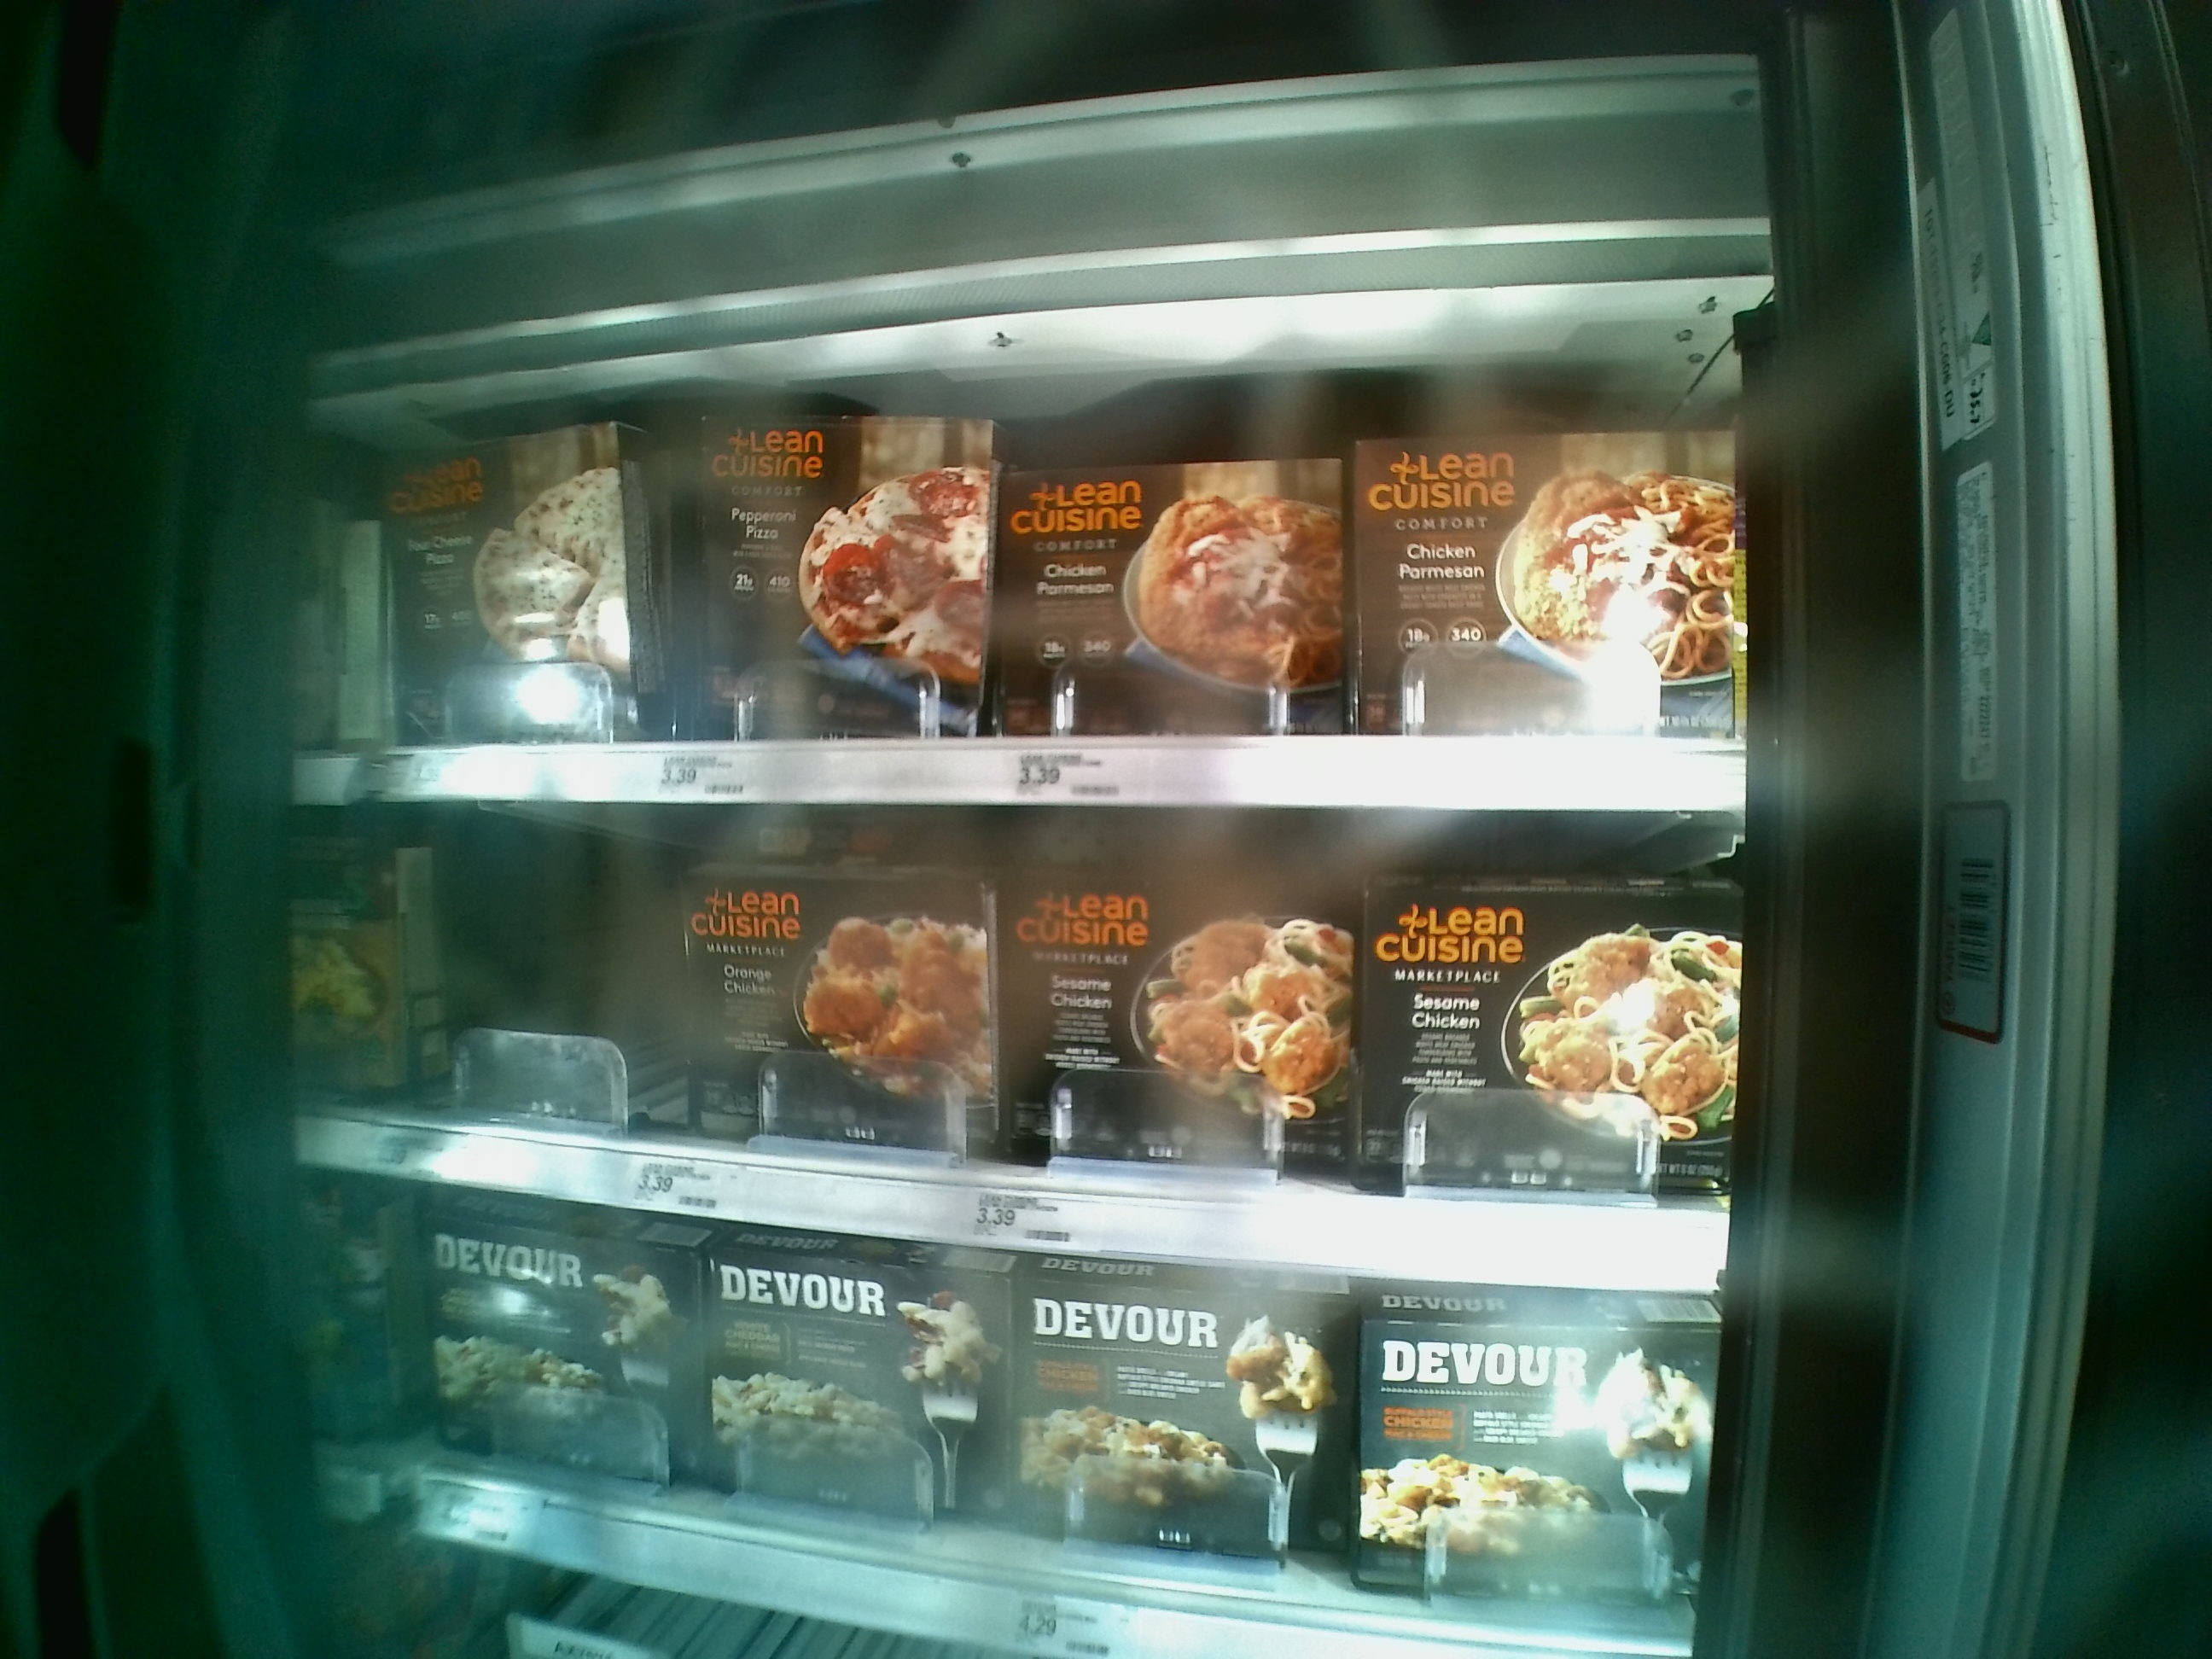shelf: (291, 812, 1716, 1297), (314, 342, 1740, 814)
